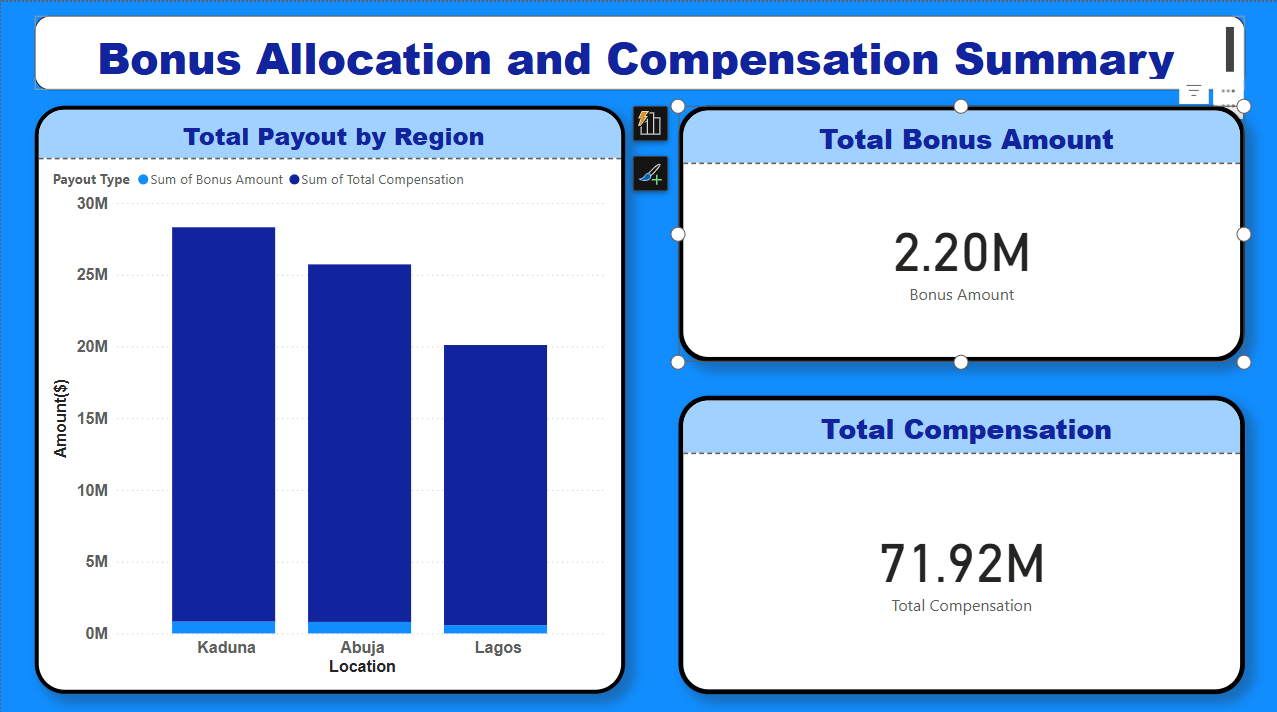

The page's visual inventory and layout, read from the dashboard file:
{"tool":"powerbi","page":{"name":"Page 5","canvas":[1280,720],"ordinal":4},"visuals":[{"type":"columnChart","title":"Total Payout by Region","fields":{"Category":["Palmoria Group emp-data.Location"],"Y":["Sum(Palmoria Group emp-data.Bonus Amount)","Sum(Palmoria Group emp-data.Total Compensation)"]},"box":[34,104,590,588],"z":0},{"type":"card","title":"Total Bonus Amount","fields":{"Values":["Sum(Palmoria Group emp-data.Bonus Amount)"]},"box":[678,104,566,256],"z":1},{"type":"card","title":"Total Compensation","fields":{"Values":["Sum(Palmoria Group emp-data.Total Compensation)"]},"box":[678,394,566,298],"z":2},{"type":"textbox","box":[34,14,1210,74],"z":3}]}

Visuals, with their boxes in screenshot pixels (x1, y1, x2, y2), scaled from the page's 1280x720 canvas onto the 1277x712 screenshot:
"Total Payout by Region" columnChart: (x1=34, y1=103, x2=623, y2=684)
"Total Bonus Amount" card: (x1=676, y1=103, x2=1241, y2=356)
"Total Compensation" card: (x1=676, y1=390, x2=1241, y2=684)
textbox: (x1=34, y1=14, x2=1241, y2=87)
